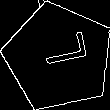L_W: (31, 36, 87, 77)
